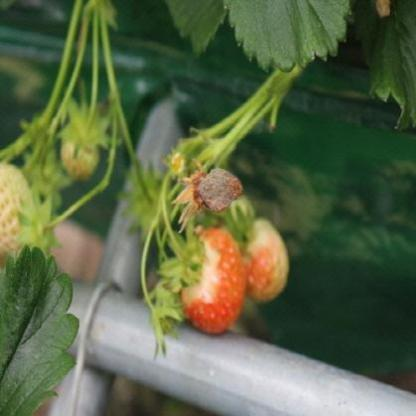Strawberry_Gray_Mold: (170, 166, 245, 234)
